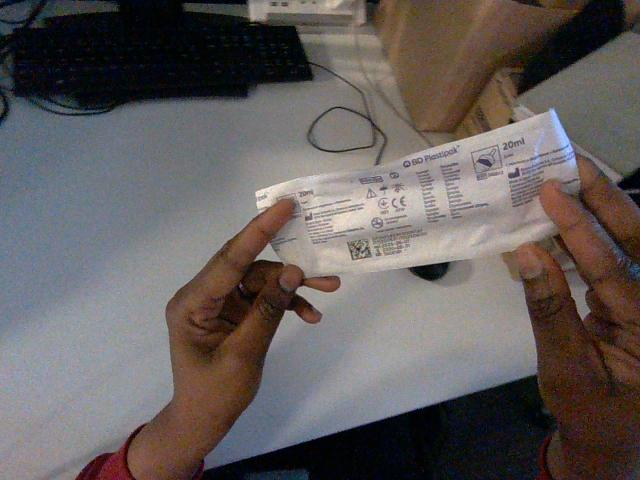syringe: (256, 110, 578, 276)
